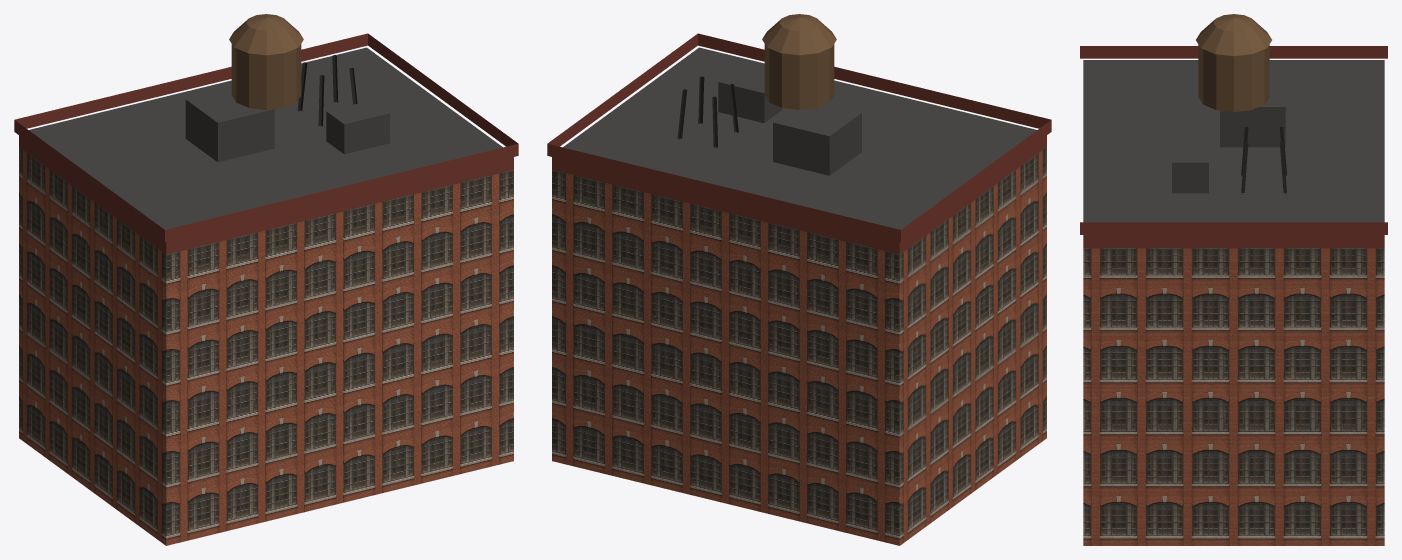
The model's file is gen_low_brick_loft.glb.
The picture shows the model from 3 angles, left to right: view 1: azimuth 30°, elevation 25°; view 2: azimuth 150°, elevation 25°; view 3: azimuth 270°, elevation 25°; orthographic projection. The views are drawn at different scales.
Visible parts, largest first — view 1: gen_low_brick_loft; view 2: gen_low_brick_loft; view 3: gen_low_brick_loft.
Part boxes in pixels (box(x1,y1,x2,y2)): gen_low_brick_loft: box(14, 14, 518, 545); gen_low_brick_loft: box(547, 14, 1051, 545); gen_low_brick_loft: box(1080, 14, 1387, 545).
Size of the model in its own units: 30.5 by 35.6 by 22.5.
Materials: 2 (2 with a texture image).
